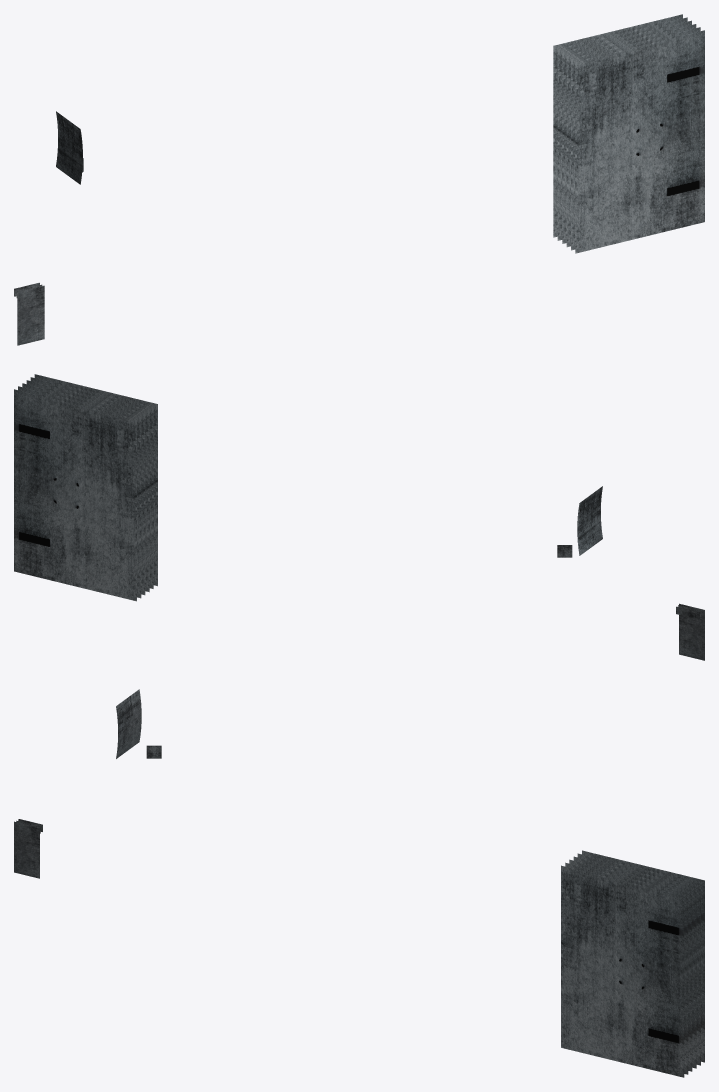
File: store_73.obj
3 views of the same model, one above another, from view 1: azimuth 30°, elevation 25°; view 2: azimuth 150°, elevation 25°; view 3: azimuth 330°, elevation 25° (orthographic). The views are drawn at different scales.
Size of the model in its own units: 355 by 113 by 41.35.
